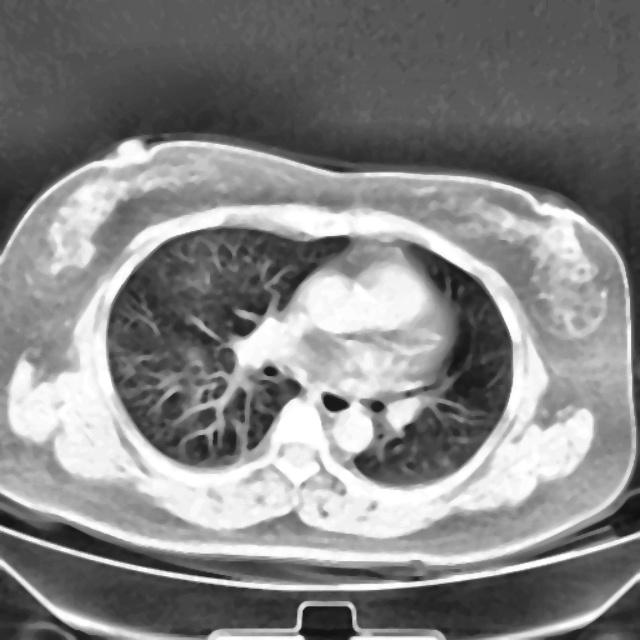covid: (1, 132, 636, 581)
